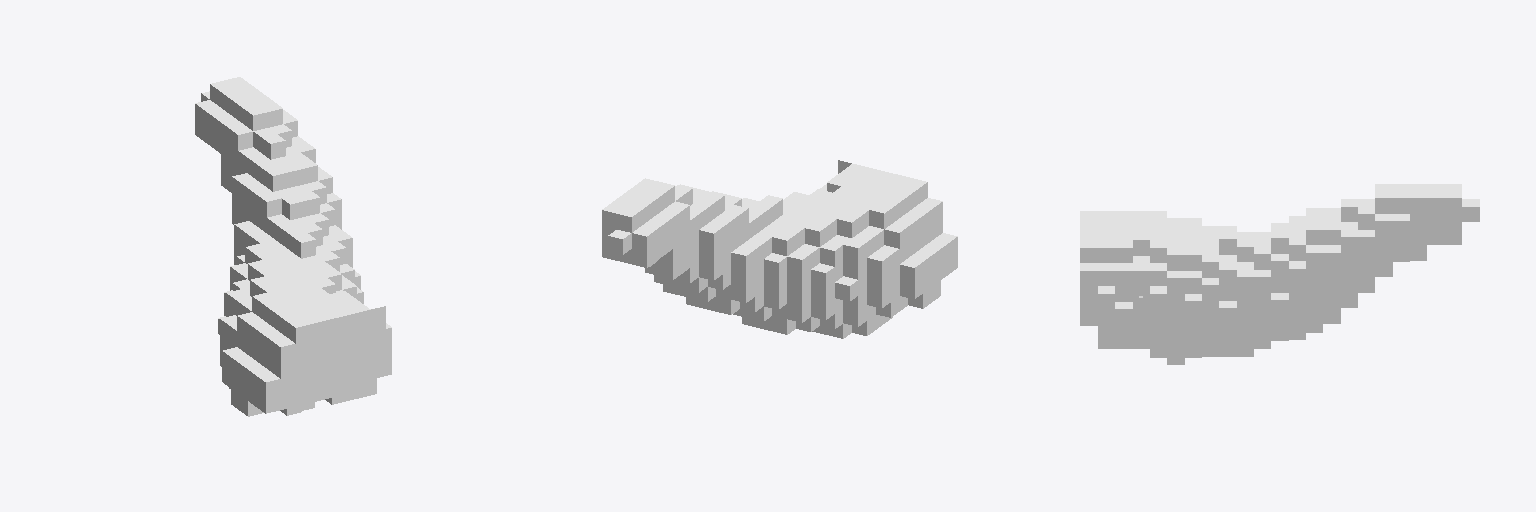
Rendered from mineways_tri_big.obj.
3 renders of one model, left to right at view 1: azimuth 30°, elevation 25°; view 2: azimuth 150°, elevation 25°; view 3: azimuth 270°, elevation 25°, orthographic.
Parts seen in each view (by area): view 1: mine_rtx__348_15_-313_to_365_28_-288; view 2: mine_rtx__348_15_-313_to_365_28_-288; view 3: mine_rtx__348_15_-313_to_365_28_-288.
Part boxes in pixels (left/top/right/bottom): mine_rtx__348_15_-313_to_365_28_-288: left=195, top=77, right=391, bottom=416; mine_rtx__348_15_-313_to_365_28_-288: left=602, top=160, right=957, bottom=338; mine_rtx__348_15_-313_to_365_28_-288: left=1080, top=184, right=1479, bottom=364.
Size of the model in its own units: 120 by 120 by 230.